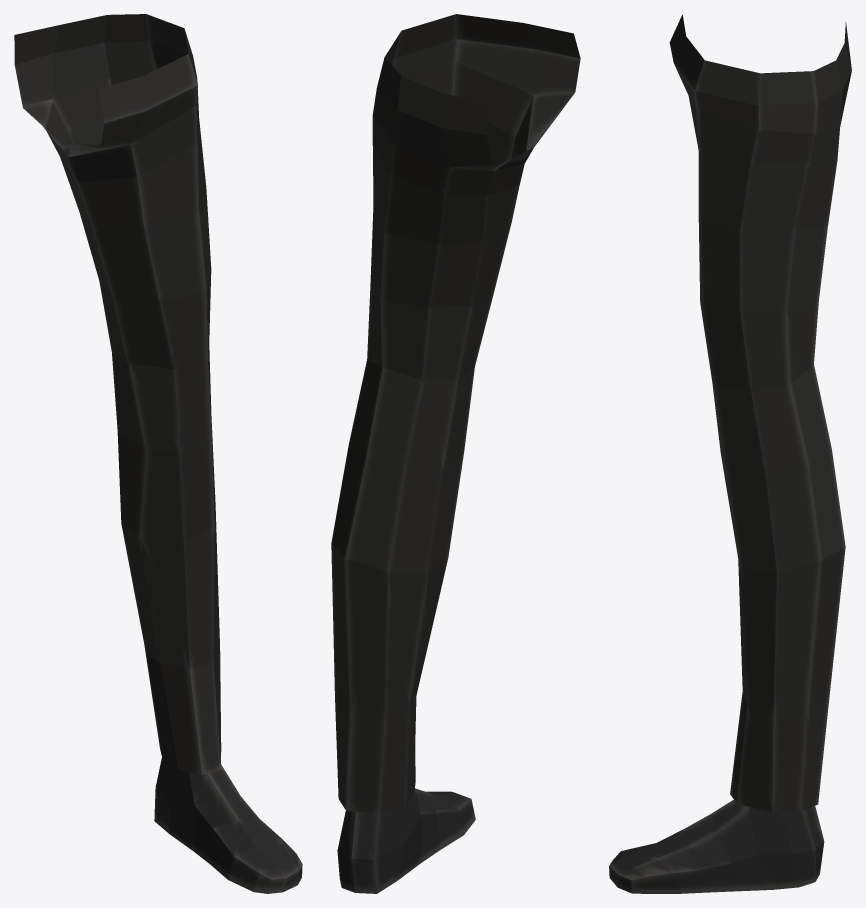
The model's file is piernaIzq.obj.
3 renders of one model, left to right at view 1: azimuth 30°, elevation 25°; view 2: azimuth 150°, elevation 25°; view 3: azimuth 270°, elevation 25°, orthographic. The views are drawn at different scales.
Parts seen in each view (by area): view 1: piernaIzq; view 2: piernaIzq; view 3: piernaIzq.
Boxes of the visible parts, x1,y1,x2,y2 form: piernaIzq: [14, 14, 302, 893]; piernaIzq: [331, 14, 580, 893]; piernaIzq: [609, 14, 851, 893].
Bounding box in the file's own units: 0.2066 × 0.8919 × 0.2465.
1 material, 1 textured.
